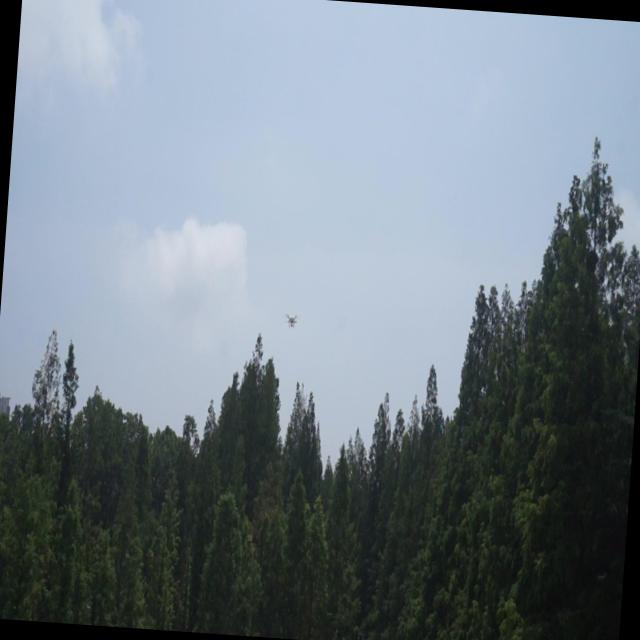drone: (284, 310, 300, 332)
